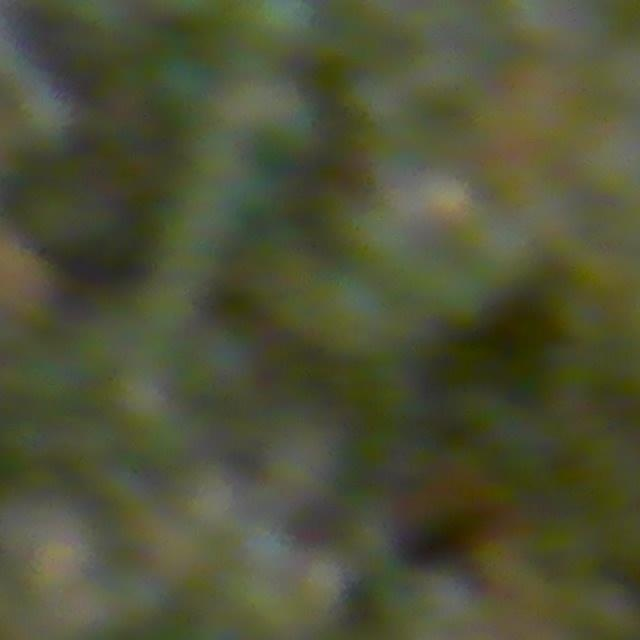SeaGrape: (233, 0, 319, 59), (148, 47, 219, 117)
